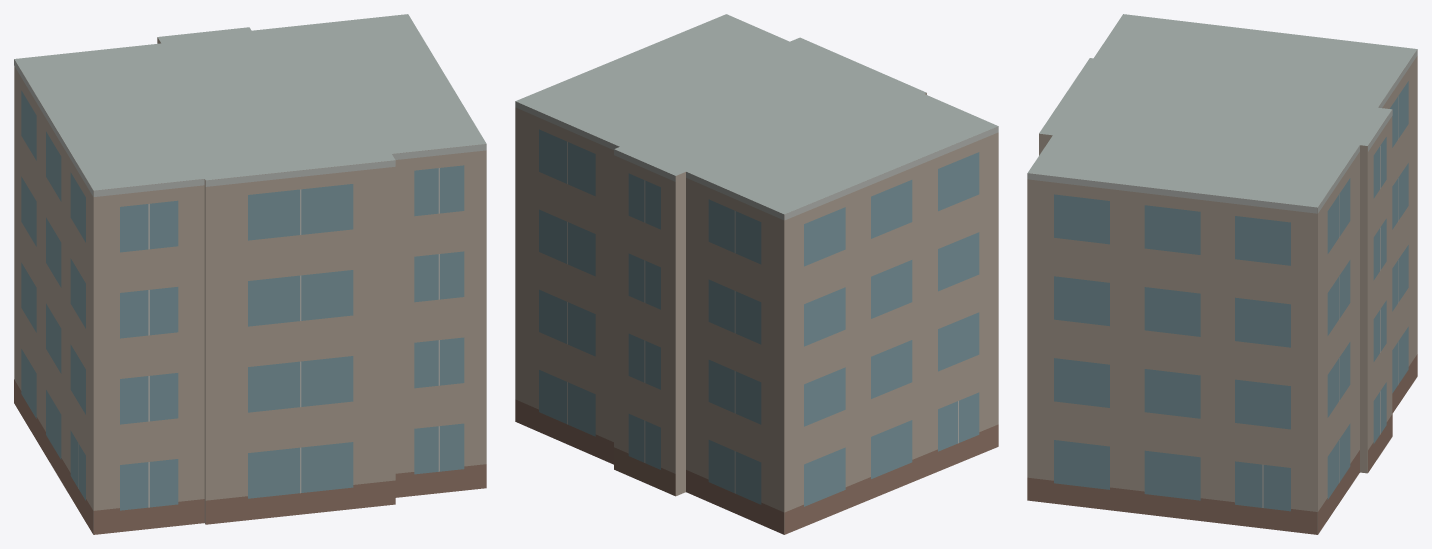
File: survey-upis-32830358.glb
3 renders of one model, left to right at view 1: azimuth 30°, elevation 25°; view 2: azimuth 150°, elevation 25°; view 3: azimuth 270°, elevation 25°, orthographic. The views are drawn at different scales.
Visible parts, largest first — view 1: survey-upis-32830358.tmp; view 2: survey-upis-32830358.tmp; view 3: survey-upis-32830358.tmp.
Part boxes in pixels (x1,y1,x2,y2): survey-upis-32830358.tmp: (14, 14, 486, 534); survey-upis-32830358.tmp: (515, 14, 998, 534); survey-upis-32830358.tmp: (1027, 14, 1417, 534).
Size of the model in its own units: 16.37 by 12.9 by 13.95.
